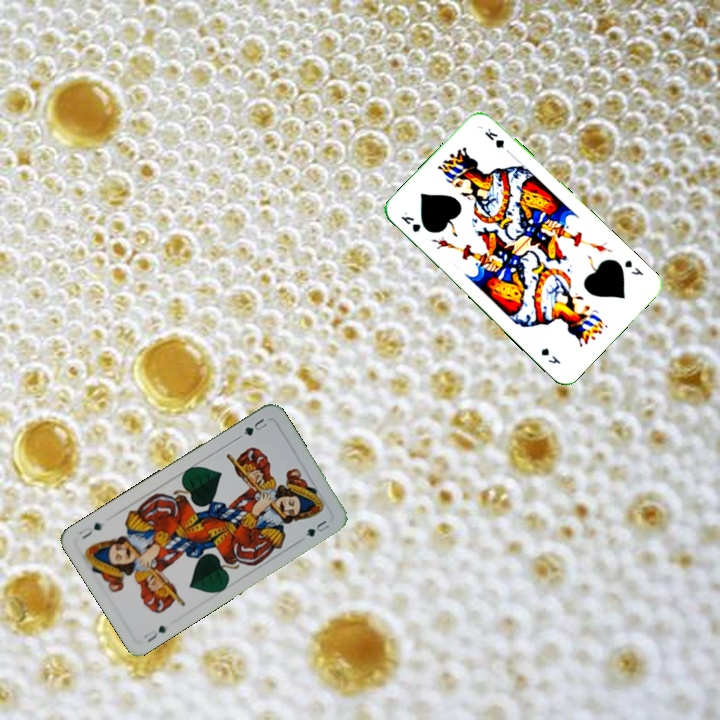GK: (396, 208, 423, 236), (620, 256, 646, 278)
GU: (239, 414, 270, 438), (140, 621, 169, 645)
